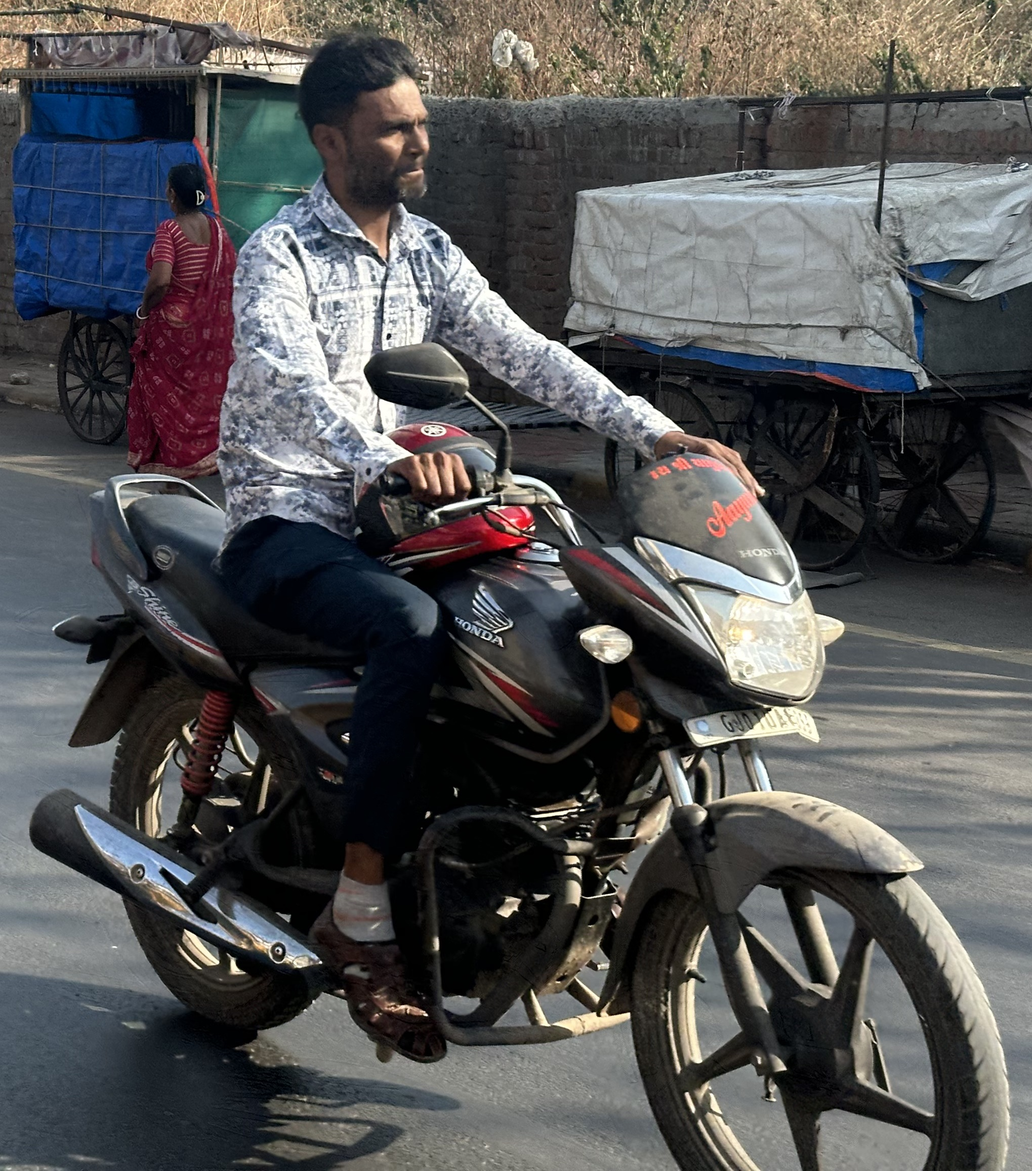BikeWithRider: (22, 19, 1021, 1168)
NoHelmet: (280, 23, 451, 217)
